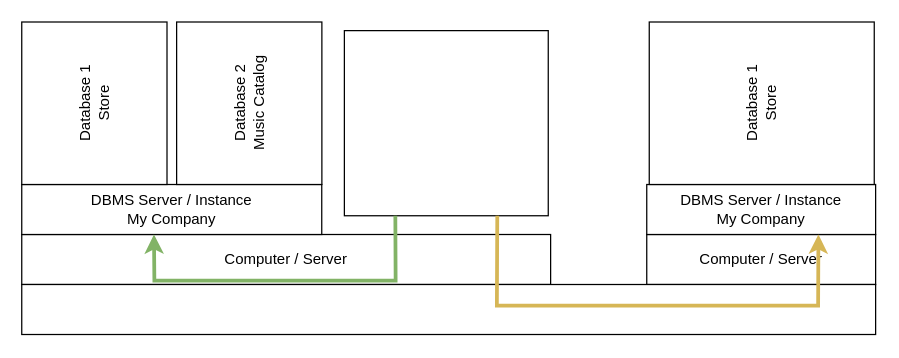
This 899x358 diagram has some shape labels left out. Here are the shapes that lost their labels. From the top down, the centre of each, then its label:
At point 445,122: "My Application".
At point 448,308: "Network".
